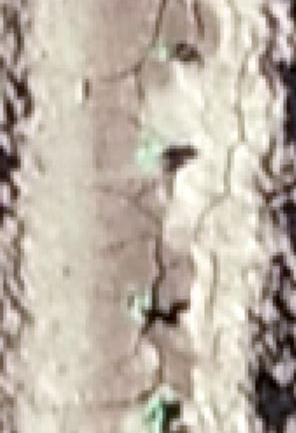cotton: (148, 397, 166, 429), (139, 142, 160, 165), (151, 39, 171, 59), (135, 292, 149, 314)
